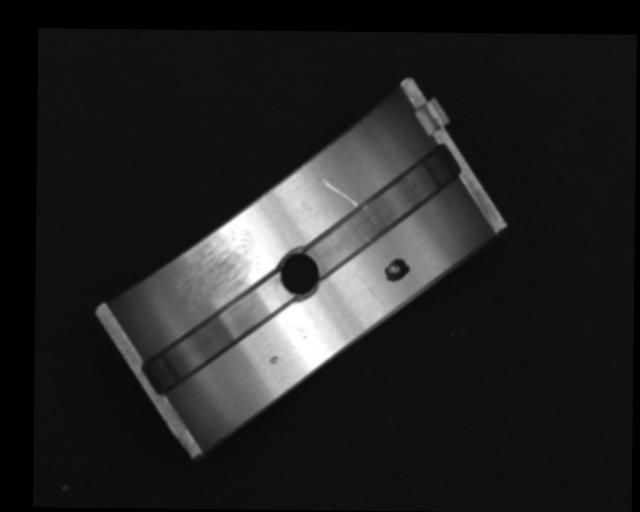blot: (383, 256, 410, 283)
bruise: (269, 355, 279, 364)
gap: (305, 139, 462, 276), (140, 277, 290, 396)
hole: (275, 249, 320, 301)
nick: (320, 178, 358, 208), (360, 272, 384, 308)
scratch: (174, 218, 258, 302)
